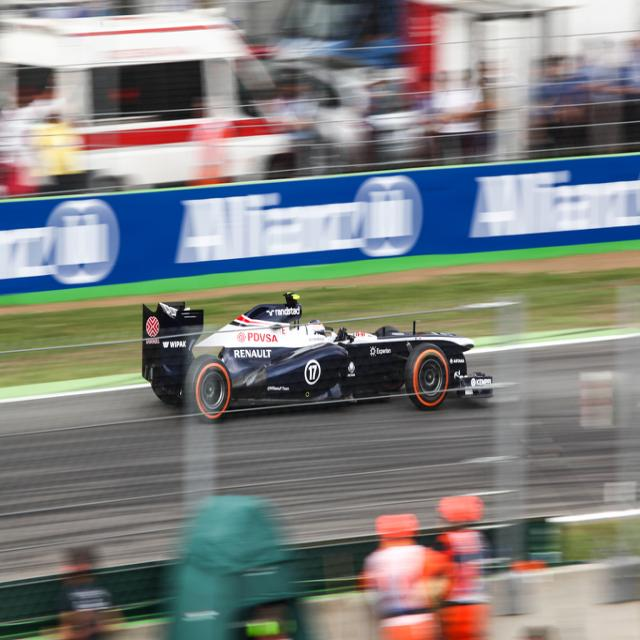car: (142, 301, 498, 425)
